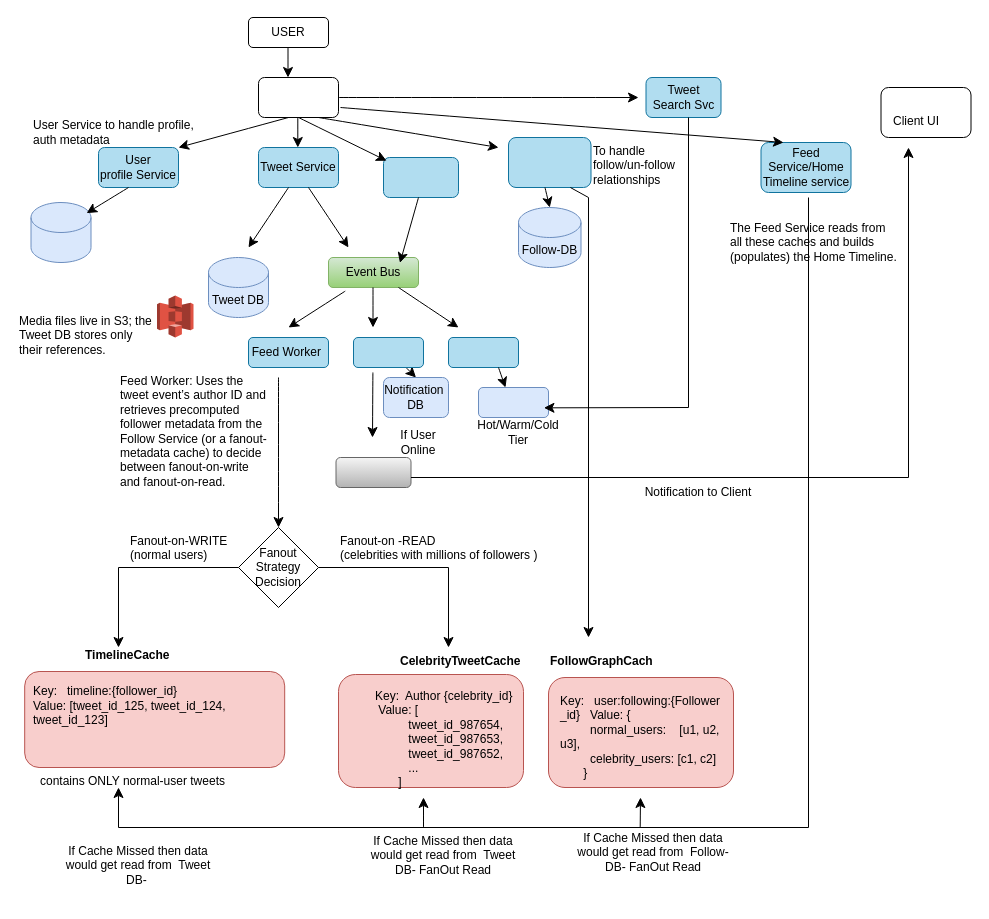
The diagram is 989 pixels wide and 919 high, and some of its shapes have lost their labels. Each missing label, with the centre of its shape:
API Gateway /CDN: [298,97]
Comment Svc: [420,177]
Elastic Search: [513,402]
Follow/Un Follow Service: [549,162]
Notification Service: [388,352]
Search Indexer Svc: [483,352]
User DB: [60,232]
WebSocket: [373,472]
